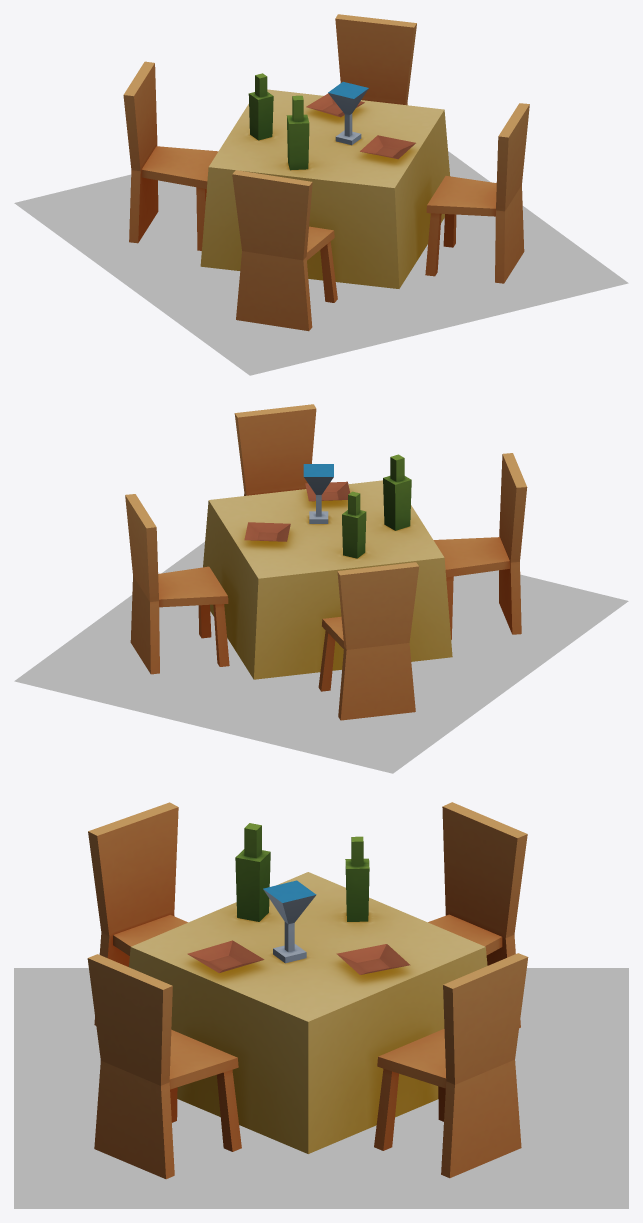
The model's file is 2x2_table.FBX.
3 views of the same model, one above another, from view 1: azimuth 30°, elevation 25°; view 2: azimuth 150°, elevation 25°; view 3: azimuth 270°, elevation 25° (orthographic). The views are drawn at different scales.
Parts seen in each view (by area): view 1: 2x2_table, 2x2_table_soft_shadow; view 2: 2x2_table, 2x2_table_soft_shadow; view 3: 2x2_table, 2x2_table_soft_shadow.
Part boxes in pixels (left/top/right/bottom): 2x2_table: left=123, top=14, right=529, bottom=331; 2x2_table_soft_shadow: left=14, top=151, right=628, bottom=375; 2x2_table: left=125, top=404, right=527, bottom=720; 2x2_table_soft_shadow: left=14, top=542, right=628, bottom=773; 2x2_table: left=87, top=802, right=528, bottom=1179; 2x2_table_soft_shadow: left=14, top=968, right=628, bottom=1208.
Size of the model in its own units: 2552 by 1149 by 2753.
